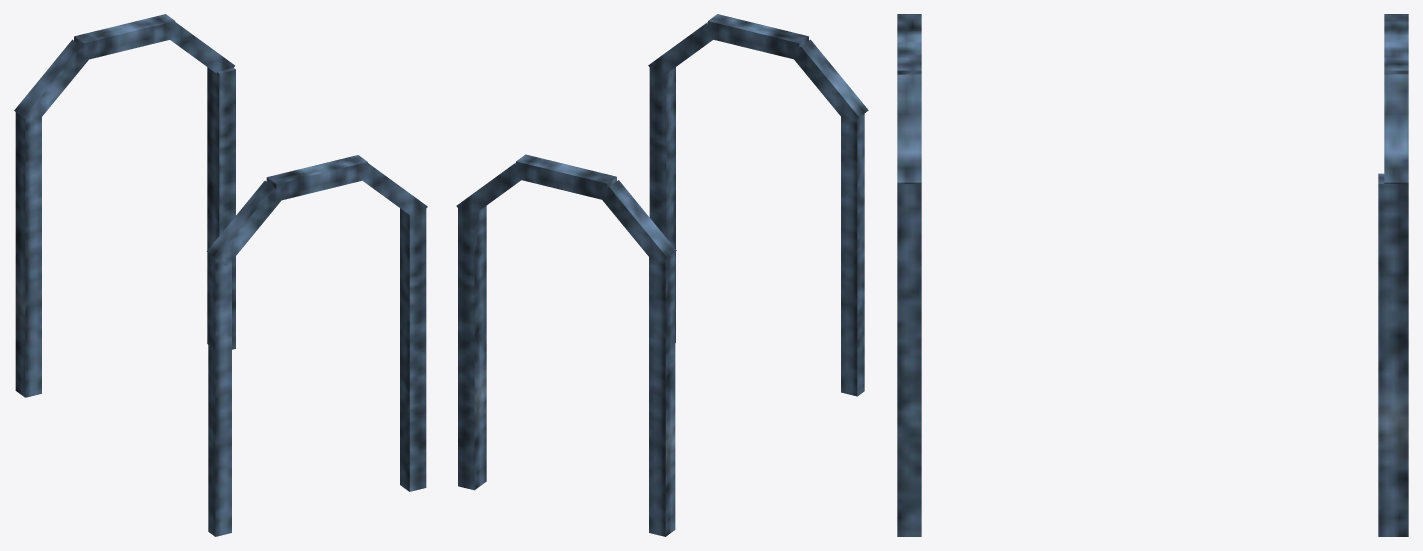
File: PoolRail.glb
3 views of the same model, side by side, from view 1: azimuth 30°, elevation 25°; view 2: azimuth 150°, elevation 25°; view 3: azimuth 270°, elevation 25° (orthographic). The views are drawn at different scales.
Visible parts, largest first — view 1: PoolRail; view 2: PoolRail; view 3: PoolRail.
Boxes of the visible parts, x1,y1,x2,y2 form: PoolRail: (14,14,427,536); PoolRail: (456,14,868,536); PoolRail: (897,14,1408,536).
Size of the model in its own units: 50.81 by 78 by 84.
1 material, 1 textured.
